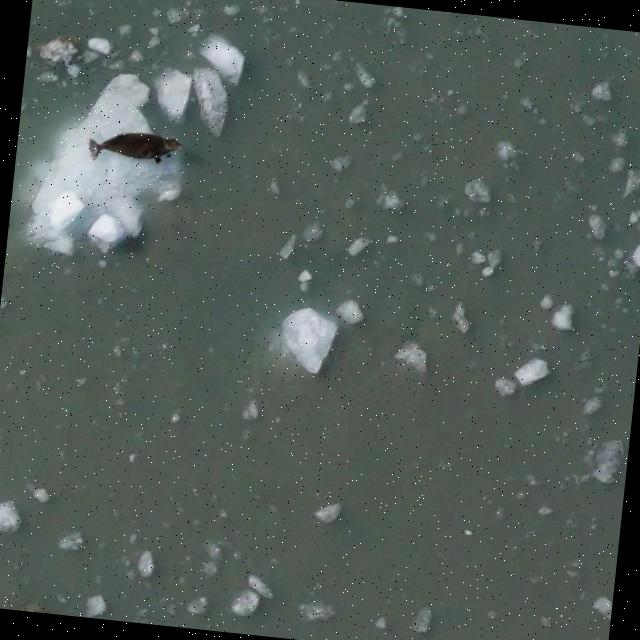seal: (86, 129, 184, 167)
